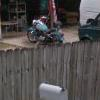Motorcycle: (17, 9, 63, 48)
